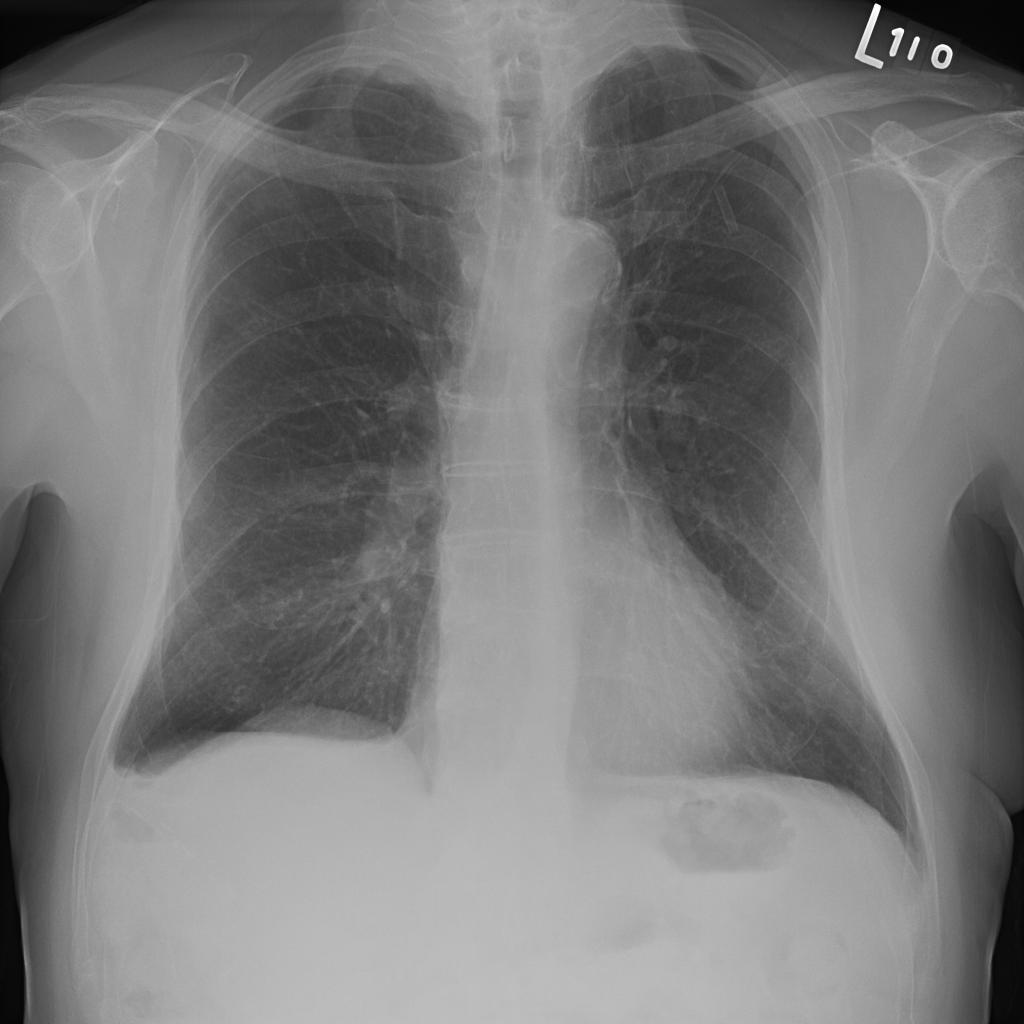Nodule: (172, 273, 212, 300), (116, 288, 136, 305)
